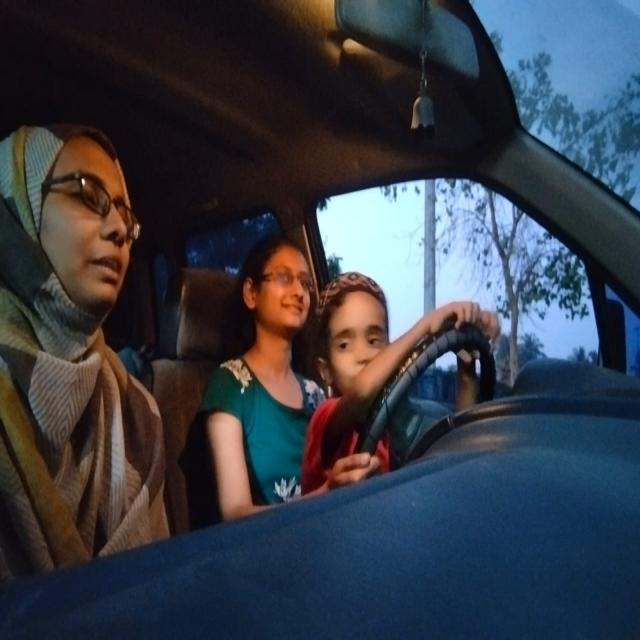child: (316, 275, 402, 392)
person: (2, 123, 139, 320), (238, 234, 315, 342)
